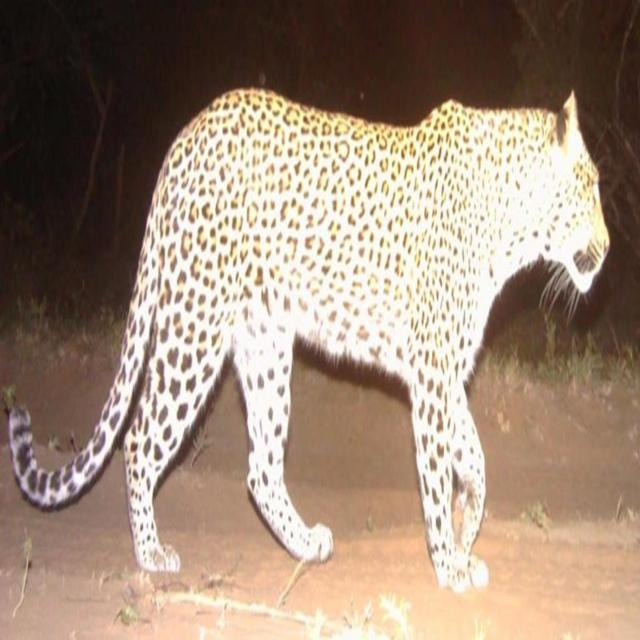Leopard: (6, 77, 608, 640)
